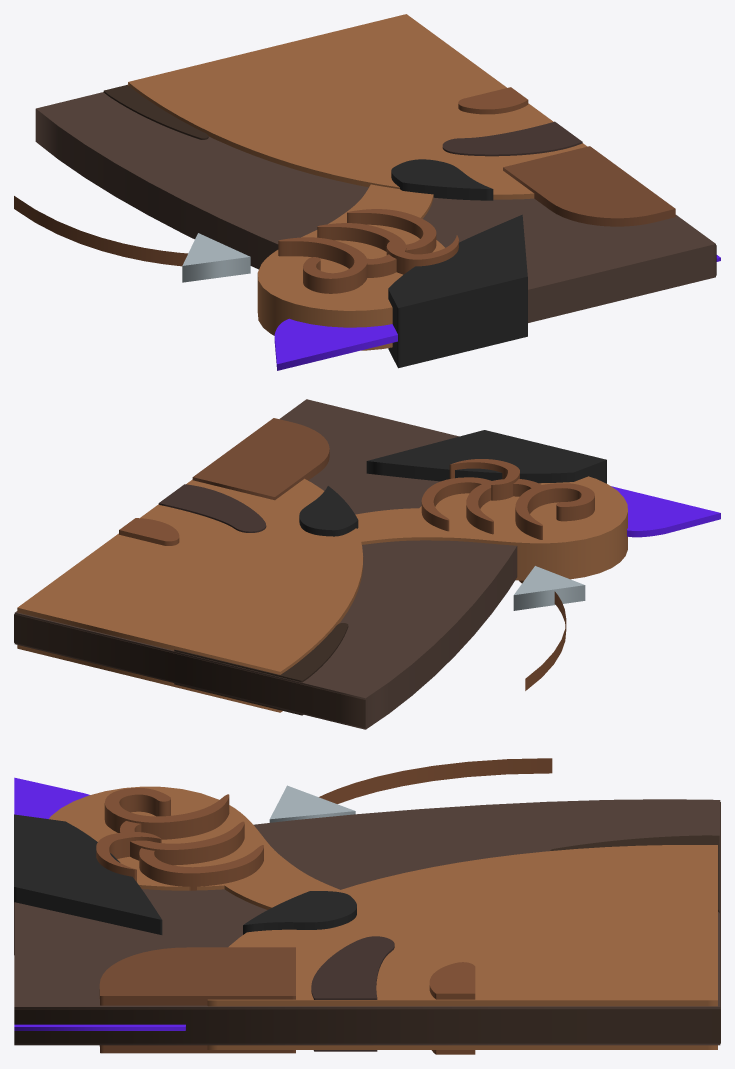
Rendered from emoji_u1f9cf_1f3fe_200d_2640.glb.
3 renders of one model, top to bottom at view 1: azimuth 30°, elevation 25°; view 2: azimuth 150°, elevation 25°; view 3: azimuth 270°, elevation 25°, orthographic. The views are drawn at different scales.
Parts seen in each view (by area): view 1: emoji_u1f9cf_1f3fe_200d_2640; view 2: emoji_u1f9cf_1f3fe_200d_2640; view 3: emoji_u1f9cf_1f3fe_200d_2640.
Part boxes in pixels (x1,y1,x2,y2): emoji_u1f9cf_1f3fe_200d_2640: (14,14,720,370); emoji_u1f9cf_1f3fe_200d_2640: (14,399,720,729); emoji_u1f9cf_1f3fe_200d_2640: (14,758,720,1054).
Bounding box in the file's own units: 0.0296 × 0.0044 × 0.0336.
